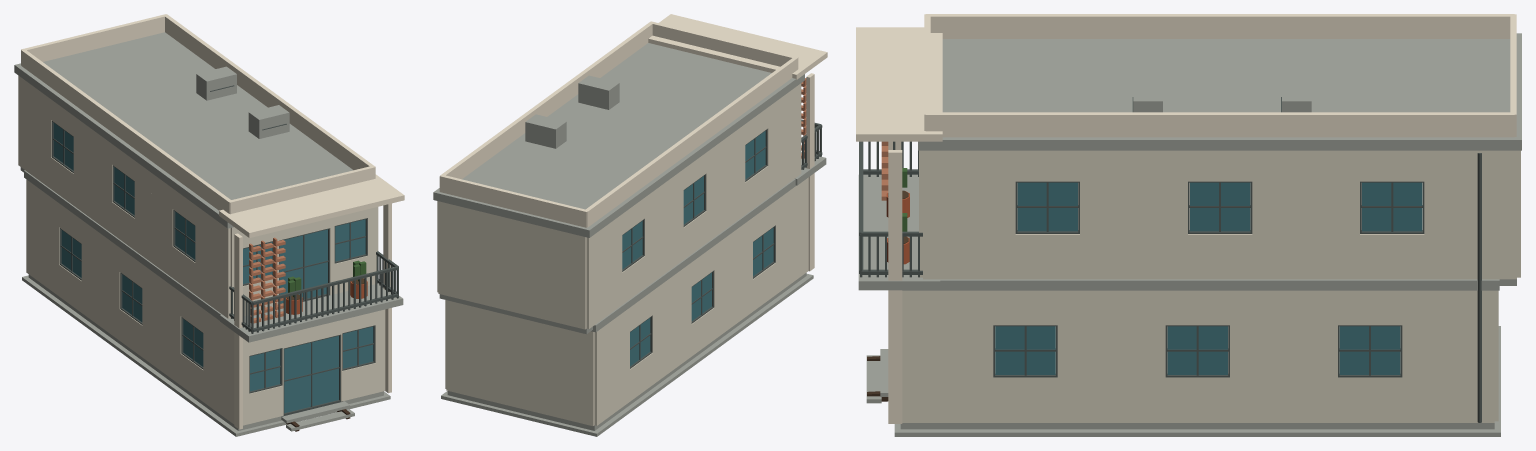
The model's file is modern-tube-house.glb.
The picture shows the model from 3 angles, left to right: view 1: azimuth 30°, elevation 25°; view 2: azimuth 150°, elevation 25°; view 3: azimuth 270°, elevation 25°; orthographic projection. The views are drawn at different scales.
Visible parts, largest first — view 1: walls__plaster, roof__concrete, roof_parapet__cream, glazing__glass.002, doors__glass, roof__cream, window_frames__metal, railings__metal, floors__concrete, balcony__concrete, facade_trim__cream, foundation__concrete (+5 smaller); view 2: walls__plaster, roof__concrete, roof_parapet__cream, floors__concrete, glazing__glass.002, roof__cream, foundation__concrete, roof_details__concrete, window_frames__metal, facade_trim__cream, railings__metal; view 3: walls__plaster, roof__concrete, roof_parapet__cream, glazing__glass.002, floors__concrete, roof__cream, foundation__concrete, window_frames__metal, balcony__concrete, facade_trim__cream, railings__metal, roof_details__concrete (+2 smaller).
Boxes of the visible parts, bbox=[...] form: walls__plaster: bbox=[18, 75, 385, 425]; roof__concrete: bbox=[14, 32, 352, 228]; roof_parapet__cream: bbox=[21, 14, 375, 214]; glazing__glass.002: bbox=[53, 123, 373, 391]; doors__glass: bbox=[279, 229, 338, 412]; roof__cream: bbox=[219, 174, 404, 237]; window_frames__metal: bbox=[51, 121, 375, 416]; railings__metal: bbox=[229, 251, 398, 333]; floors__concrete: bbox=[20, 167, 383, 430]; balcony__concrete: bbox=[220, 283, 403, 342]; facade_trim__cream: bbox=[234, 203, 391, 429]; foundation__concrete: bbox=[22, 275, 390, 436]; walls__plaster: bbox=[437, 83, 808, 425]; roof__concrete: bbox=[433, 43, 804, 237]; roof_parapet__cream: bbox=[439, 21, 798, 227]; floors__concrete: bbox=[439, 179, 806, 430]; glazing__glass.002: bbox=[622, 131, 773, 366]; roof__cream: bbox=[648, 14, 827, 79]; foundation__concrete: bbox=[441, 274, 813, 436]; roof_details__concrete: bbox=[525, 75, 619, 148]; window_frames__metal: bbox=[622, 129, 775, 368]; facade_trim__cream: bbox=[806, 73, 814, 271]; railings__metal: bbox=[801, 119, 822, 169]; walls__plaster: bbox=[902, 150, 1520, 422]; roof__concrete: bbox=[918, 33, 1521, 150]; roof_parapet__cream: bbox=[924, 14, 1516, 137]; glazing__glass.002: bbox=[995, 182, 1422, 374]; floors__concrete: bbox=[900, 182, 1516, 429]; roof__cream: bbox=[856, 27, 942, 141]; foundation__concrete: bbox=[894, 326, 1500, 436]; window_frames__metal: bbox=[993, 181, 1424, 377]; balcony__concrete: bbox=[858, 174, 940, 290]; facade_trim__cream: bbox=[888, 141, 902, 423]; railings__metal: bbox=[859, 141, 922, 277]; roof_details__concrete: bbox=[1133, 80, 1311, 112].
Size of the model in its own units: 5.12 by 7.22 by 13.46.
